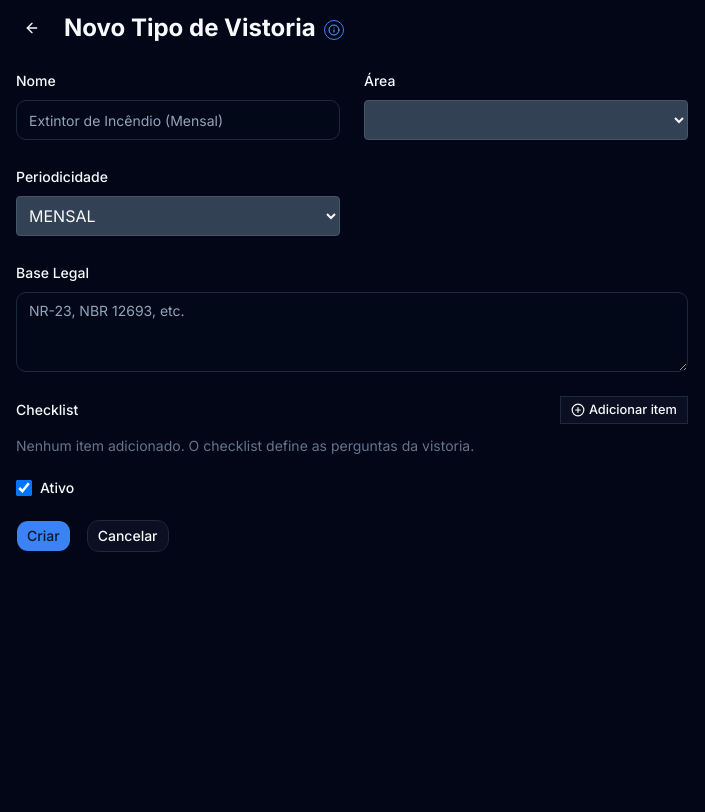
TipoVistoriaFormPage › novo › adiciona item de checklist ao clicar Adicionar item
This screenshot has width=705, height=812.
Expected: the text "Nenhum item adicionado" is shown, [16,437,474,454]
Click the button "Adicionar item": (624, 410) [560,396,688,424]
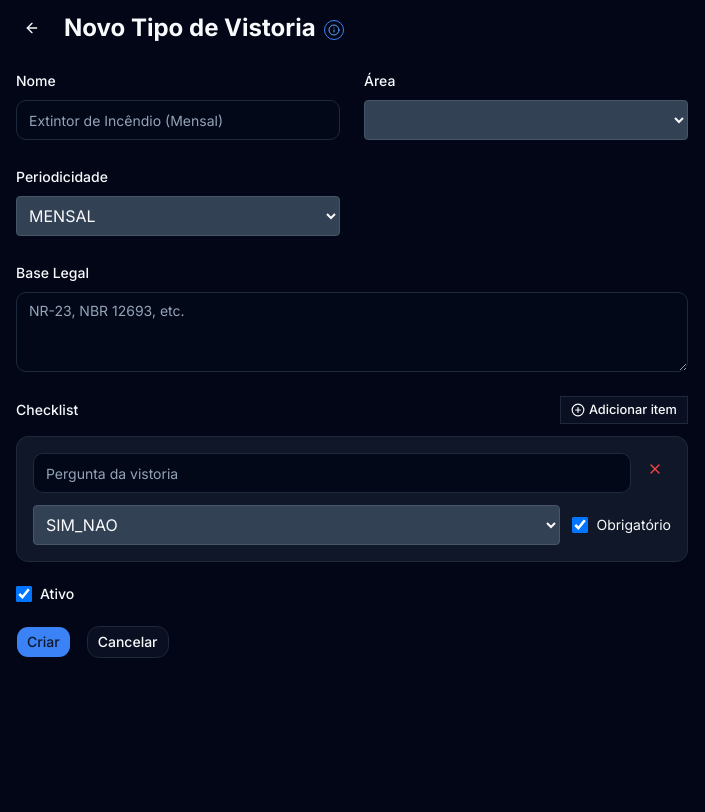
Result: the number of fields with placeholder "Pergunta da vistoria" is 1 at [33,453,631,493]
Click the button "Adicionar item": (624, 410) [560,396,688,424]
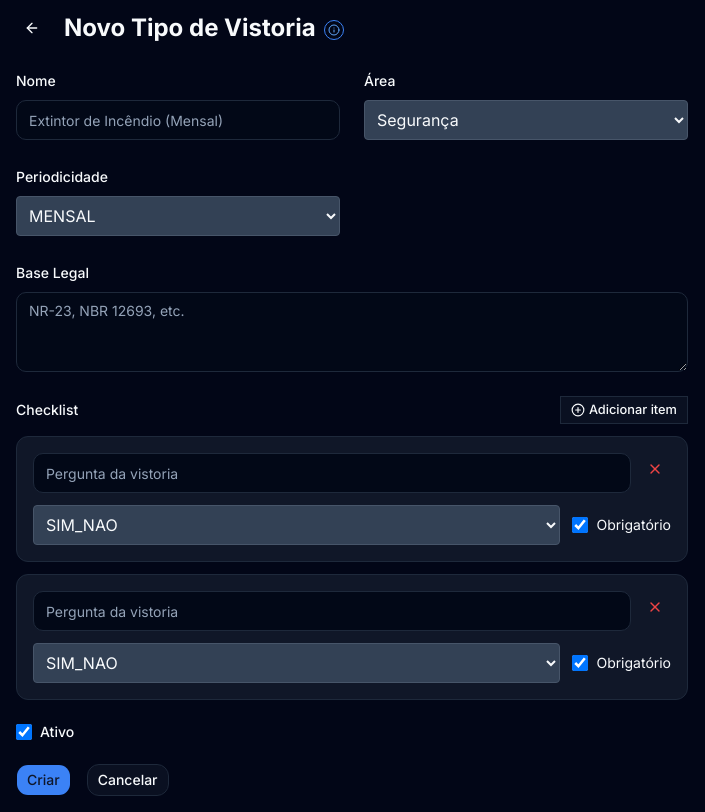
Result: the number of fields with placeholder "Pergunta da vistoria" is 2 at [33,453,631,493]; [33,591,631,631]
